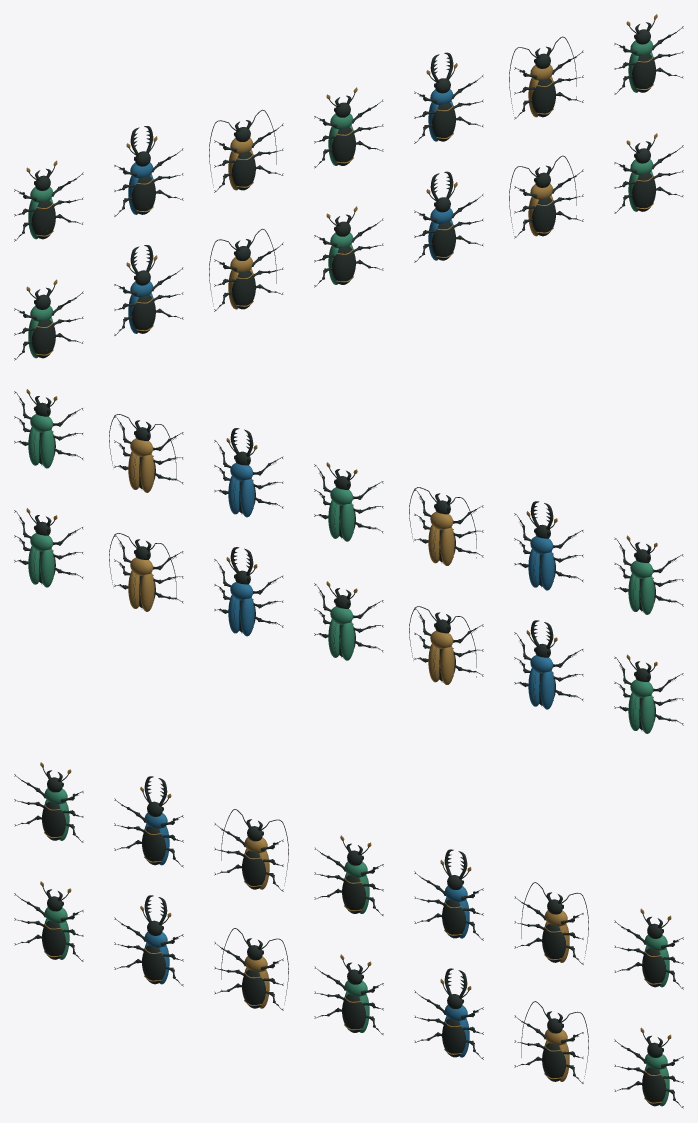
The picture shows the model from 3 angles, top to bottom: view 1: azimuth 30°, elevation 25°; view 2: azimuth 150°, elevation 25°; view 3: azimuth 330°, elevation 25°; orthographic projection.
Parts seen in each view (by area): view 1: B02_SPEC_Chitin_export, B02_SPEC_Iridescent bronze_export, B02_SPEC_Iridescent jade_export, B02_SPEC_Iridescent blue_export; view 2: B02_SPEC_Chitin_export, B02_SPEC_Iridescent jade_export, B02_SPEC_Iridescent bronze_export, B02_SPEC_Iridescent blue_export; view 3: B02_SPEC_Chitin_export, B02_SPEC_Iridescent bronze_export, B02_SPEC_Iridescent jade_export, B02_SPEC_Iridescent blue_export.
Boxes of the visible parts, x1,y1,x2,y2 form: B02_SPEC_Chitin_export: (14,19,683,360); B02_SPEC_Iridescent bronze_export: (26,14,657,355); B02_SPEC_Iridescent jade_export: (28,40,653,358); B02_SPEC_Iridescent blue_export: (128,89,453,333); B02_SPEC_Chitin_export: (14,391,683,730); B02_SPEC_Iridescent jade_export: (28,414,654,733); B02_SPEC_Iridescent bronze_export: (26,389,657,725); B02_SPEC_Iridescent blue_export: (228,463,554,709); B02_SPEC_Chitin_export: (14,767,683,1108); B02_SPEC_Iridescent bronze_export: (40,762,671,1103); B02_SPEC_Iridescent jade_export: (44,788,669,1106); B02_SPEC_Iridescent blue_export: (144,812,469,1057).
Size of the model in its own units: 4.89 by 1.43 by 0.1544.
